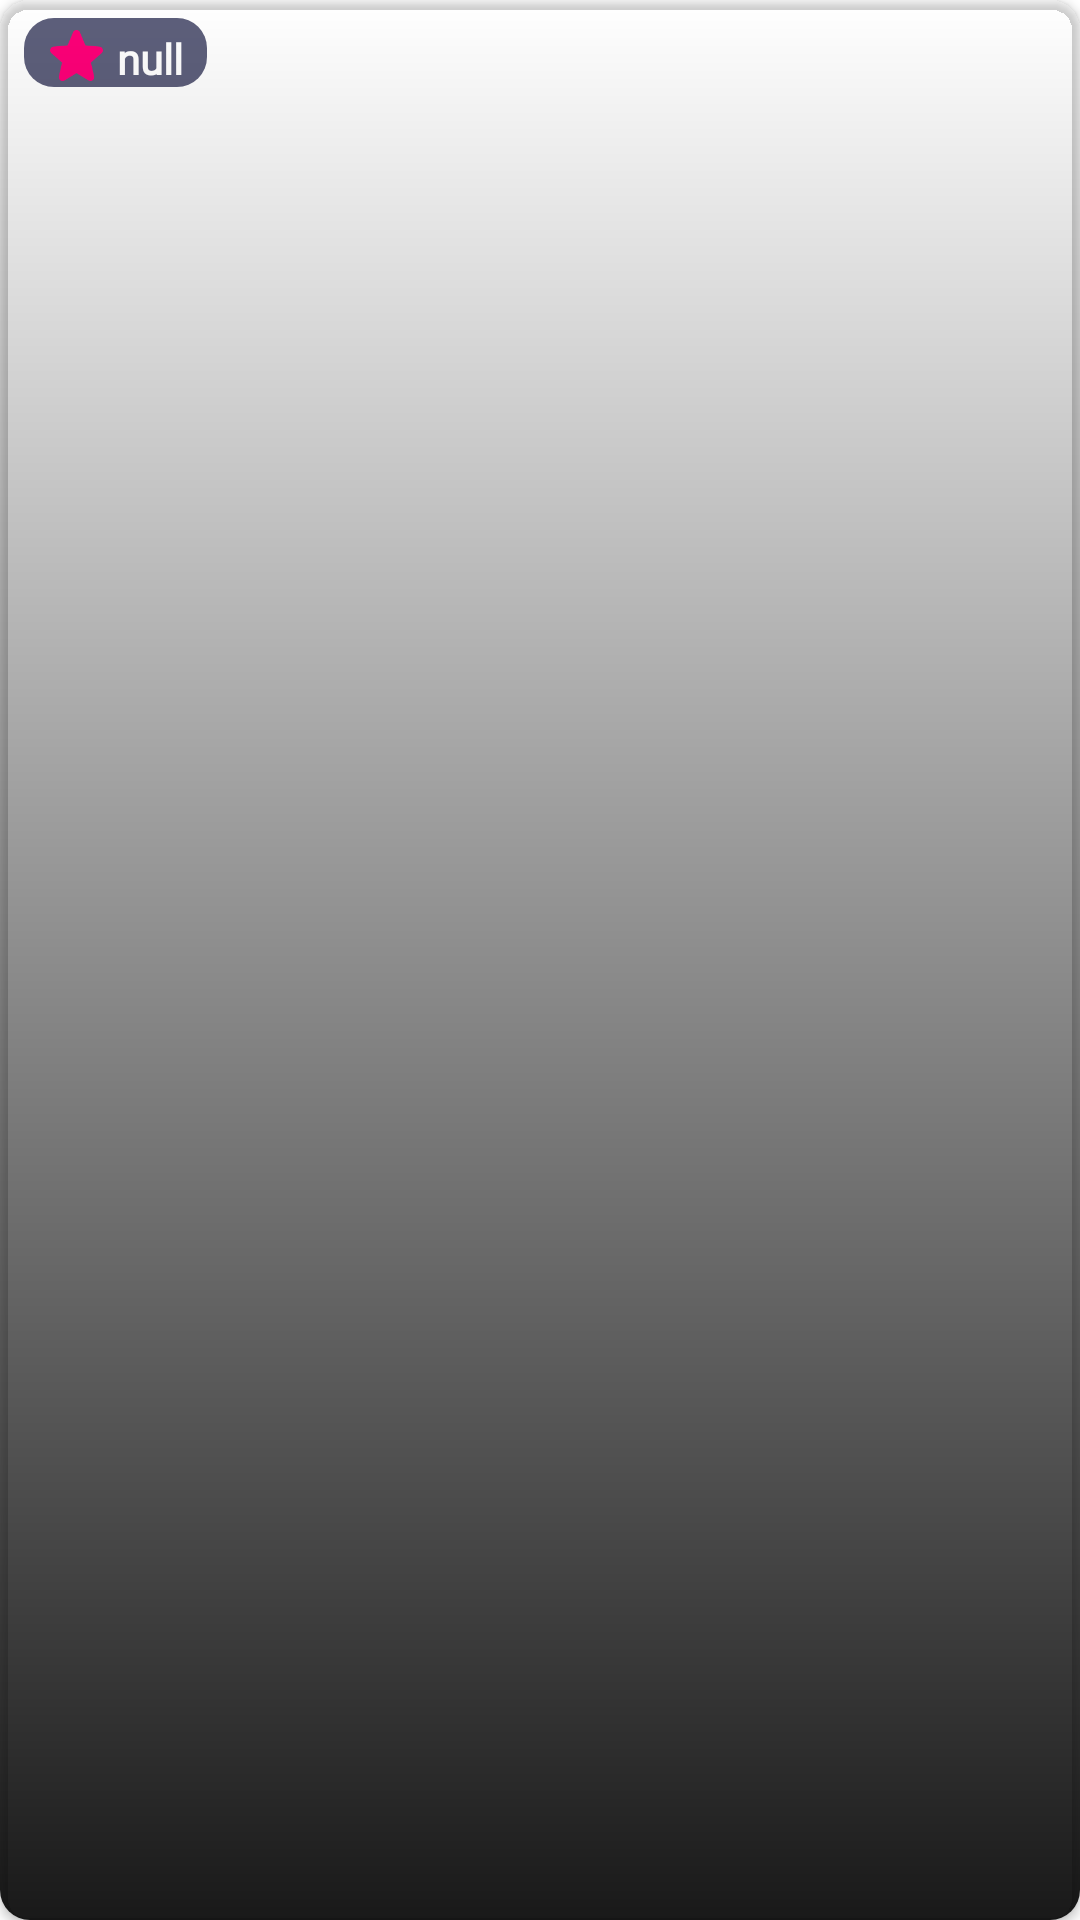

Screen size 1080 x 1920. Icon name, then its box in pixels as (x1, y1, x2, y2):
star: (50, 30, 103, 81)
